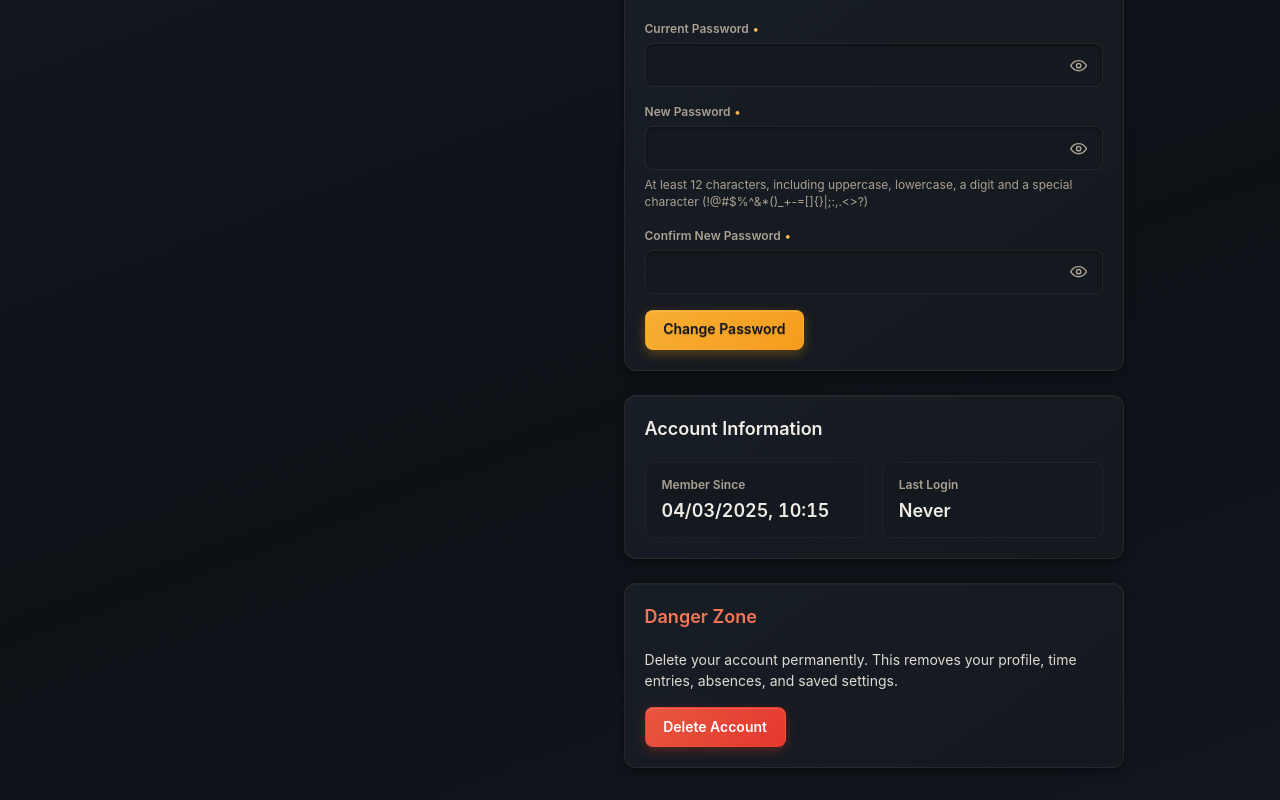
it: SettingsPage – delete account › opens a dialog explaining the consequences
(page scrolled)
Click the button "Delete Account" at (715, 727), box [644,707,786,747]
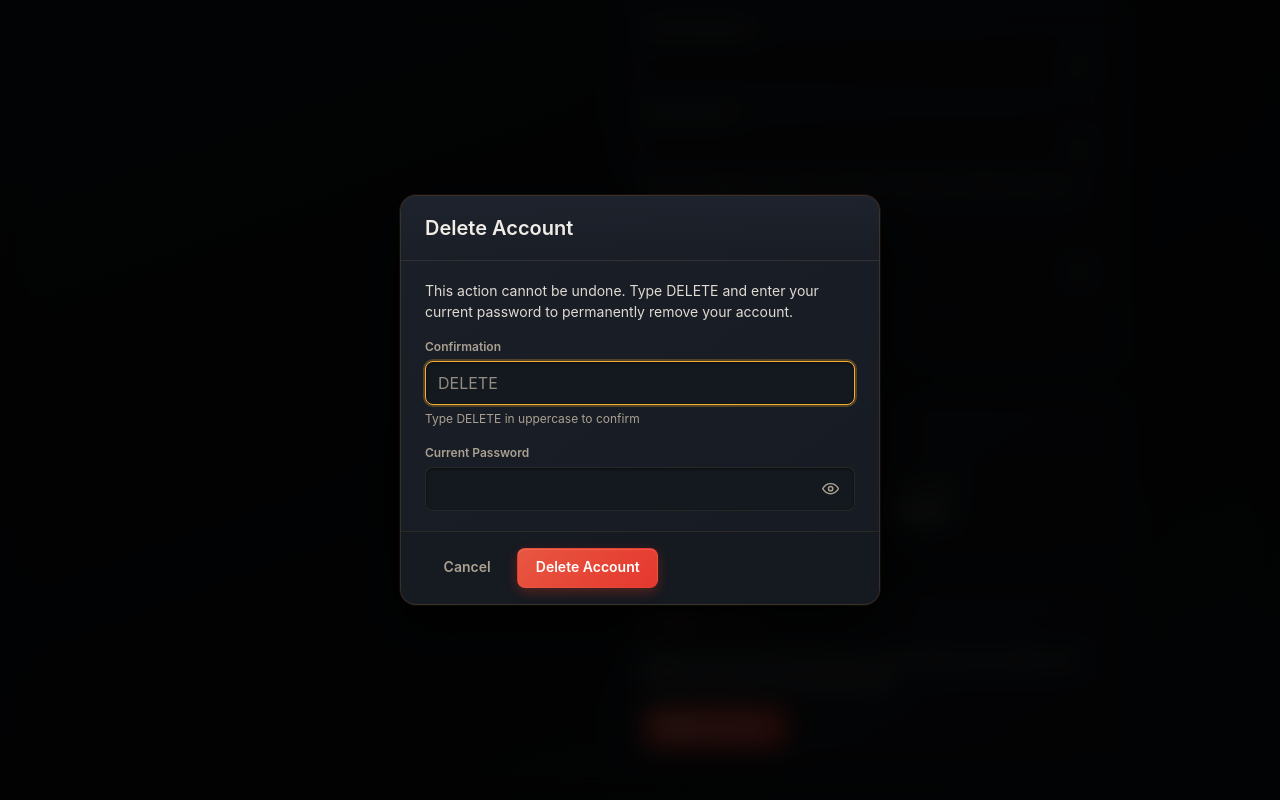
Expected: the text "This action cannot be undone" is shown, [425,282,819,320]
Expected: the field with placeholder "DELETE" is shown, [438,362,842,404]
Expected: the text "Type DELETE in uppercase to confirm" is shown, [425,412,640,426]
